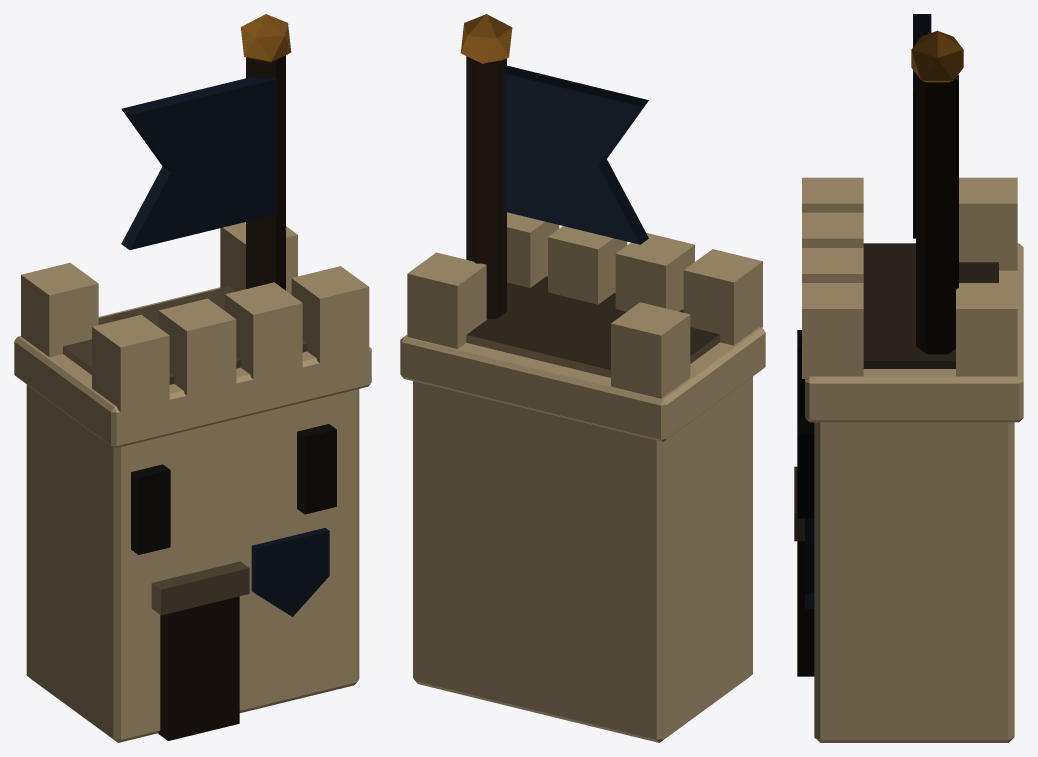
Rendered from barracks.obj.
3 renders of one model, left to right at view 1: azimuth 30°, elevation 25°; view 2: azimuth 150°, elevation 25°; view 3: azimuth 270°, elevation 25°, orthographic. The views are drawn at different scales.
Visible parts, largest first — view 1: core_stone, core_team, core_wood_dark, core_window, core_stone_dark, core_gold; view 2: core_stone, core_team, core_stone_dark, core_wood_dark, core_gold; view 3: core_stone, core_wood_dark, core_stone_dark, core_window, core_gold, core_team.
Boxes of the visible parts, x1,y1,x2,y2 form: core_stone: (14,222,371,742); core_team: (121,76,329,616); core_wood_dark: (158,55,285,740); core_window: (131,424,336,554); core_stone_dark: (63,286,307,615); core_gold: (240,14,291,62); core_stone: (400,212,765,742); core_team: (504,65,648,244); core_stone_dark: (466,276,720,377); core_wood_dark: (466,56,506,318); core_gold: (460,14,512,63); core_stone: (802,177,1023,742); core_wood_dark: (797,75,958,676); core_stone_dark: (794,243,998,541); core_window: (797,330,814,518); core_gold: (911,30,963,82); core_team: (805,14,931,608).
Size of the model in its own units: 0.212 by 0.497 by 0.149.
